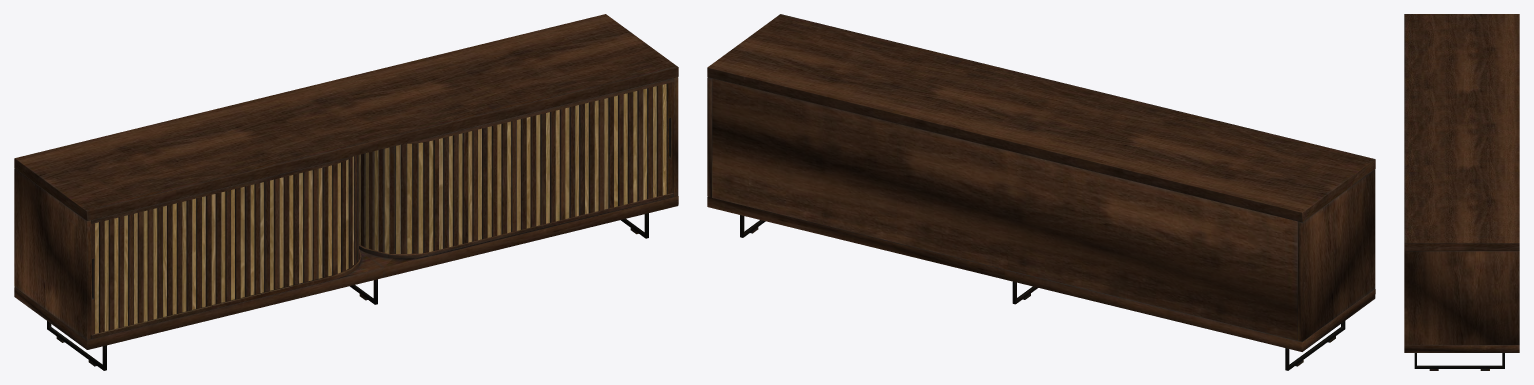
The model's file is modern_wooden_cabinet.glb.
3 renders of one model, left to right at view 1: azimuth 30°, elevation 25°; view 2: azimuth 150°, elevation 25°; view 3: azimuth 270°, elevation 25°, orthographic. The views are drawn at different scales.
Parts seen in each view (by area): view 1: modern_wooden_cabinet_body, modern_wooden_cabinet_door_r, modern_wooden_cabinet_door_l; view 2: modern_wooden_cabinet_body; view 3: modern_wooden_cabinet_body.
Part boxes in pixels (x1,y1,x2,y2): modern_wooden_cabinet_body: (14,14,678,370); modern_wooden_cabinet_door_r: (359,82,672,253); modern_wooden_cabinet_door_l: (91,155,358,334); modern_wooden_cabinet_body: (707,14,1375,370); modern_wooden_cabinet_body: (1404,14,1519,370).
Bounding box in the file's own units: 2.44 × 0.6801 × 0.52.
1 material, 1 textured.
